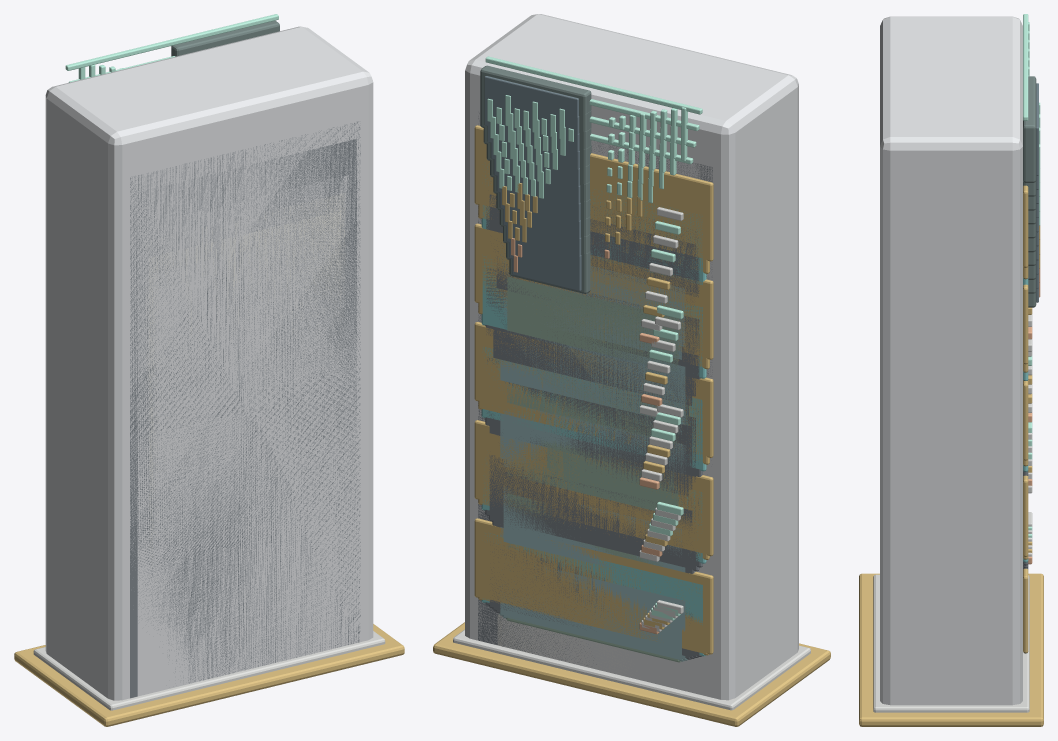
The model's file is Gear20.fbx.
The picture shows the model from 3 angles, left to right: view 1: azimuth 30°, elevation 25°; view 2: azimuth 150°, elevation 25°; view 3: azimuth 270°, elevation 25°; orthographic projection.
Parts seen in each view (by area): view 1: Gear20_V10_Platinum, Gear20_V2_Platinum, Gear20_V8_Graphite, Gear20_V9_Platinum, Gear20_V1_Platinum, Gear20_V7_Graphite, Gear20_V6_Platinum, Gear20_V10_Gold, Gear20_V3_Linen, Gear20_V10_Chrome, Gear20_V10_Glow, Gear20_V5_Platinum (+4 smaller); view 2: Gear20_V10_Platinum, Gear20_V10_Gold, Gear20_V9_Gold, Gear20_V1_Sage, Gear20_V2_Blue, Gear20_V3_Blue, Gear20_V6_Graphite, Gear20_V8_Aqua, Gear20_V5_Graphite, Gear20_V7_Graphite, Gear20_V2_Platinum, Gear20_V10_Glow (+28 smaller); view 3: Gear20_V10_Platinum, Gear20_V10_Gold, Gear20_V10_Chrome, Gear20_V9_Gold, Gear20_V10_Ink, Gear20_V10_Glow, Gear20_V6_Chrome, Gear20_V8_Chrome, Gear20_V4_Chrome.
Part boxes in pixels (<box>): Gear20_V10_Platinum: <box>45,26,373,700</box>; Gear20_V2_Platinum: <box>153,231,337,688</box>; Gear20_V8_Graphite: <box>130,121,360,698</box>; Gear20_V9_Platinum: <box>126,103,364,699</box>; Gear20_V1_Platinum: <box>157,255,332,679</box>; Gear20_V7_Graphite: <box>134,139,356,696</box>; Gear20_V6_Platinum: <box>137,192,260,696</box>; Gear20_V10_Gold: <box>14,624,404,726</box>; Gear20_V3_Linen: <box>149,211,341,587</box>; Gear20_V10_Chrome: <box>33,631,385,710</box>; Gear20_V10_Glow: <box>65,14,278,79</box>; Gear20_V5_Platinum: <box>141,175,348,413</box>; Gear20_V10_Platinum: <box>465,14,798,700</box>; Gear20_V10_Gold: <box>433,125,830,726</box>; Gear20_V9_Gold: <box>439,145,823,725</box>; Gear20_V1_Sage: <box>506,276,681,662</box>; Gear20_V2_Blue: <box>502,268,684,661</box>; Gear20_V3_Blue: <box>499,244,687,660</box>; Gear20_V6_Graphite: <box>488,194,699,657</box>; Gear20_V8_Aqua: <box>481,163,706,656</box>; Gear20_V5_Graphite: <box>492,211,695,658</box>; Gear20_V7_Graphite: <box>482,206,708,665</box>; Gear20_V2_Platinum: <box>501,616,688,691</box>; Gear20_V10_Glow: <box>485,56,702,515</box>; Gear20_V10_Platinum: <box>880,16,1022,705</box>; Gear20_V10_Gold: <box>859,185,1043,726</box>; Gear20_V10_Chrome: <box>873,512,1032,712</box>; Gear20_V9_Gold: <box>859,266,1043,717</box>; Gear20_V10_Ink: <box>1023,76,1036,182</box>; Gear20_V10_Glow: <box>1023,14,1040,432</box>; Gear20_V6_Chrome: <box>873,365,1032,700</box>; Gear20_V8_Chrome: <box>873,351,1032,704</box>; Gear20_V4_Chrome: <box>873,384,1032,697</box>.
Size of the model in its own units: 133 by 250 by 71.
